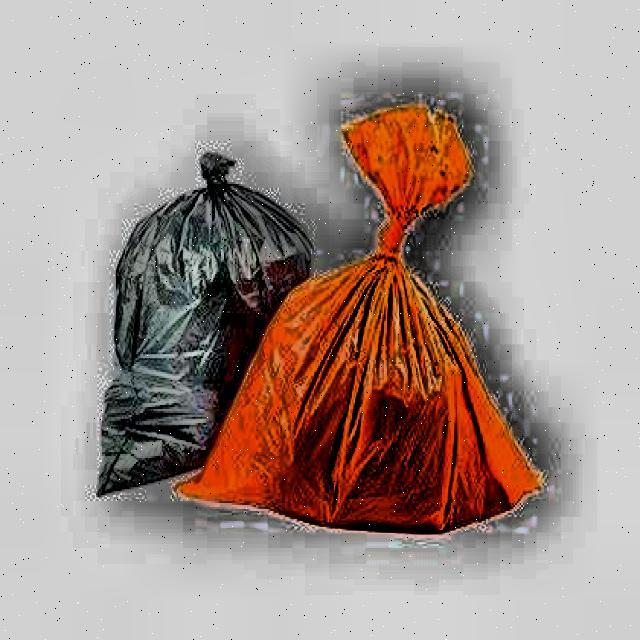Trashbag: (81, 138, 321, 502)
